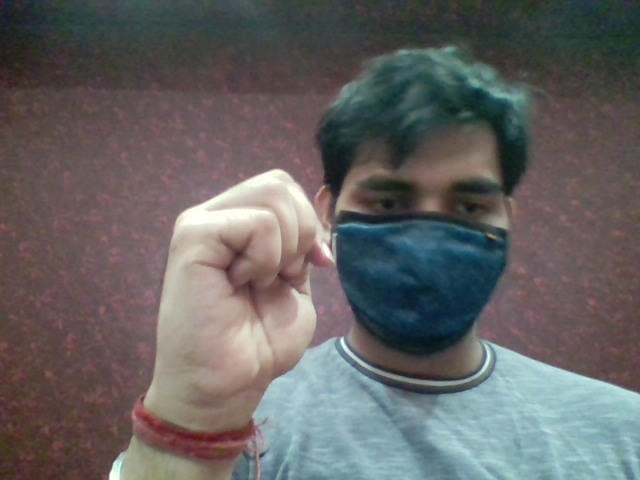m: (145, 162, 332, 415)
